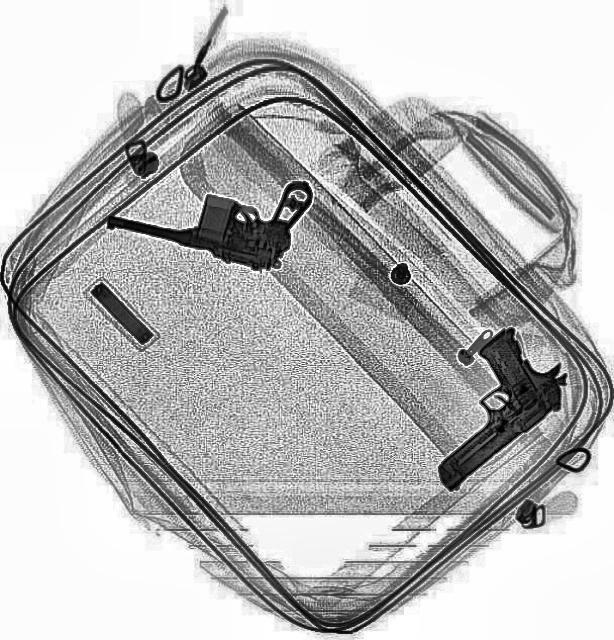Gun: (387, 316, 581, 494), (101, 138, 315, 276)
